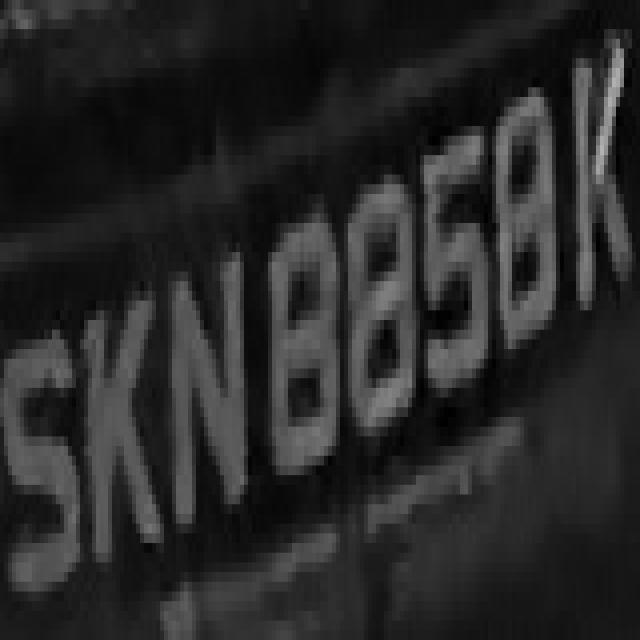5: (396, 126, 504, 407)
8: (256, 204, 344, 504), (484, 78, 564, 349), (340, 175, 412, 475)
K: (72, 262, 160, 591), (564, 10, 640, 339)
N: (160, 204, 256, 533)
S: (4, 300, 76, 620)
